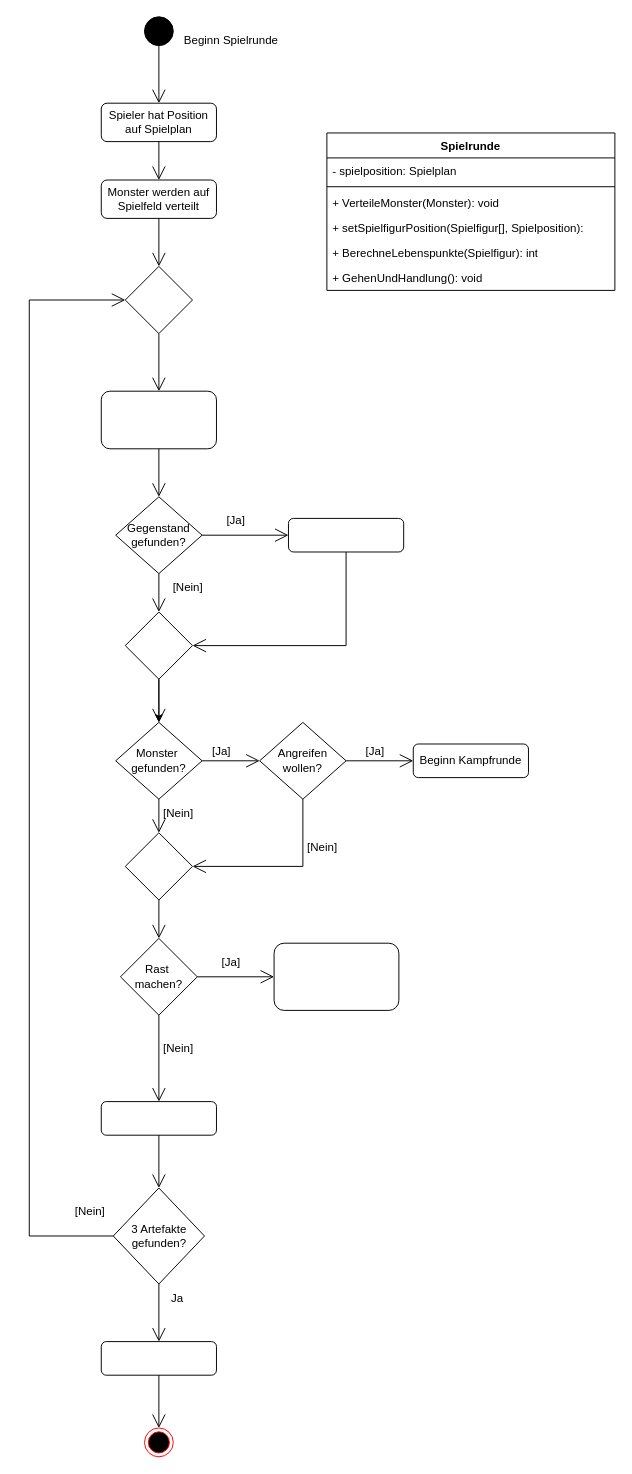
This 632x1474 diagram has some shape labels left out. Here are the shapes that lost their labels. From the top down, the centre of each, then its label:
At point (158, 419): "Spieler Können zwei Schritte gehen + Handlung durchführen".
At point (346, 534): "Aufheben und benutzen".
At point (336, 976): "Lebenspunkte oder magische Fähigkeiten sammeln".
At point (158, 1118): "Andere Handlung durchführen".
At point (158, 1358): "Zum Ausgang gehen".
